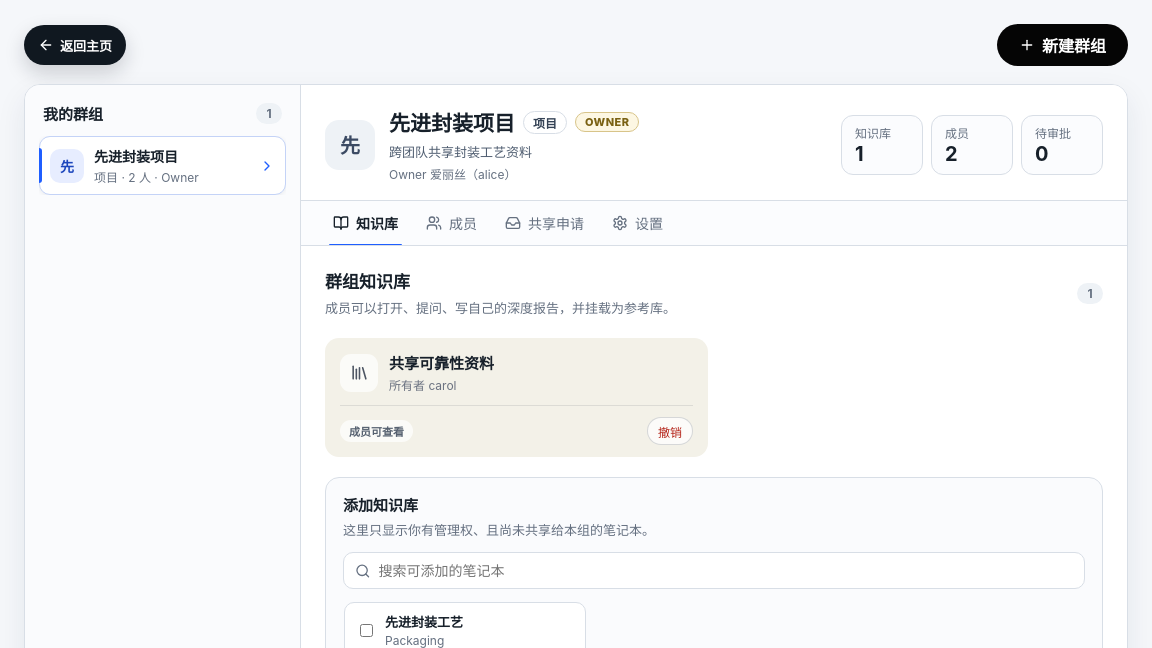
Test: 组管理员可在成员页生成邀请链接
Check: the heading "先进封装项目" is shown, box 389,107 -> 515,137
Click the button "成员" at (452, 223), box 414,201 -> 489,245
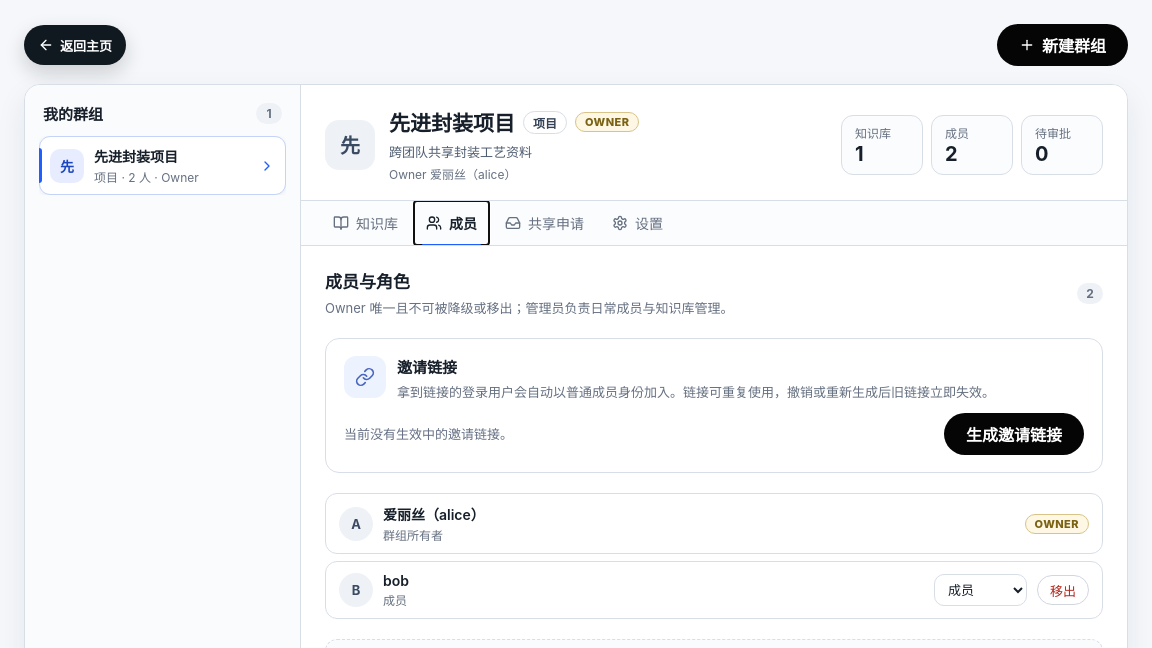
Click the button "生成邀请链接" at (1014, 434), box 944,413 -> 1084,455
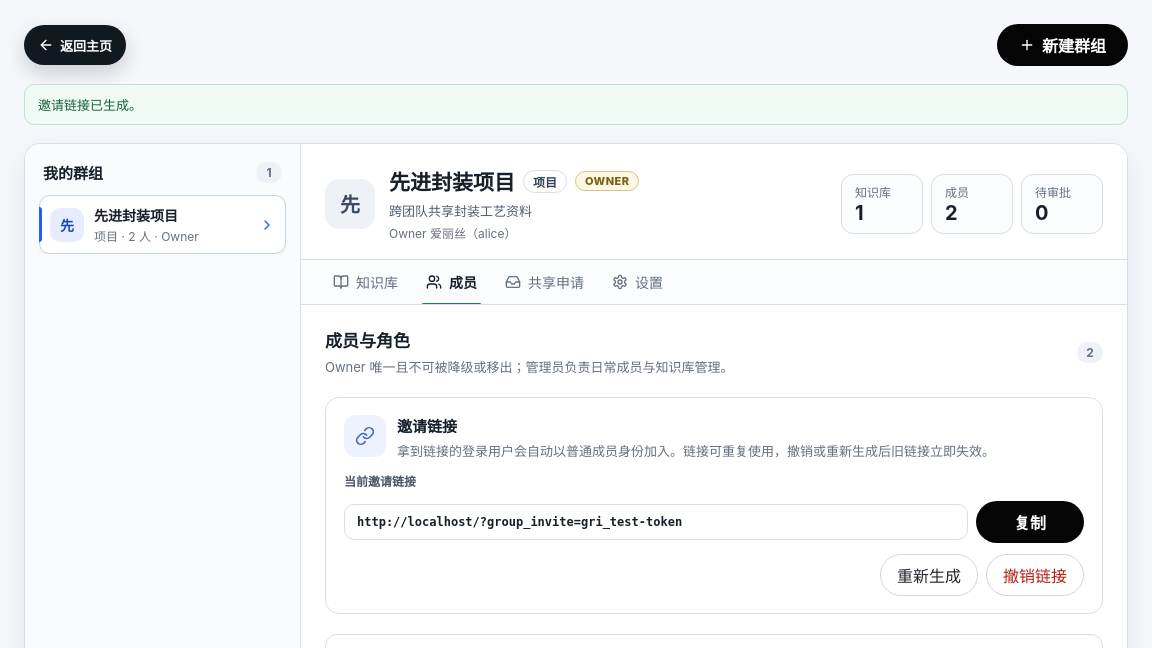
Check: the field showing "group_invite=gri_test-token" is shown, box 344,504 -> 968,540
